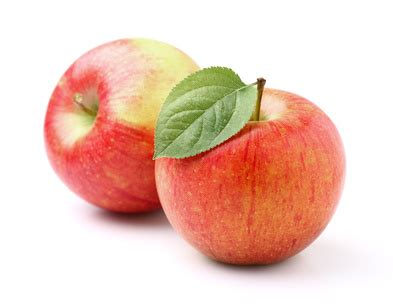apple: (151, 86, 347, 269), (42, 34, 207, 216)
